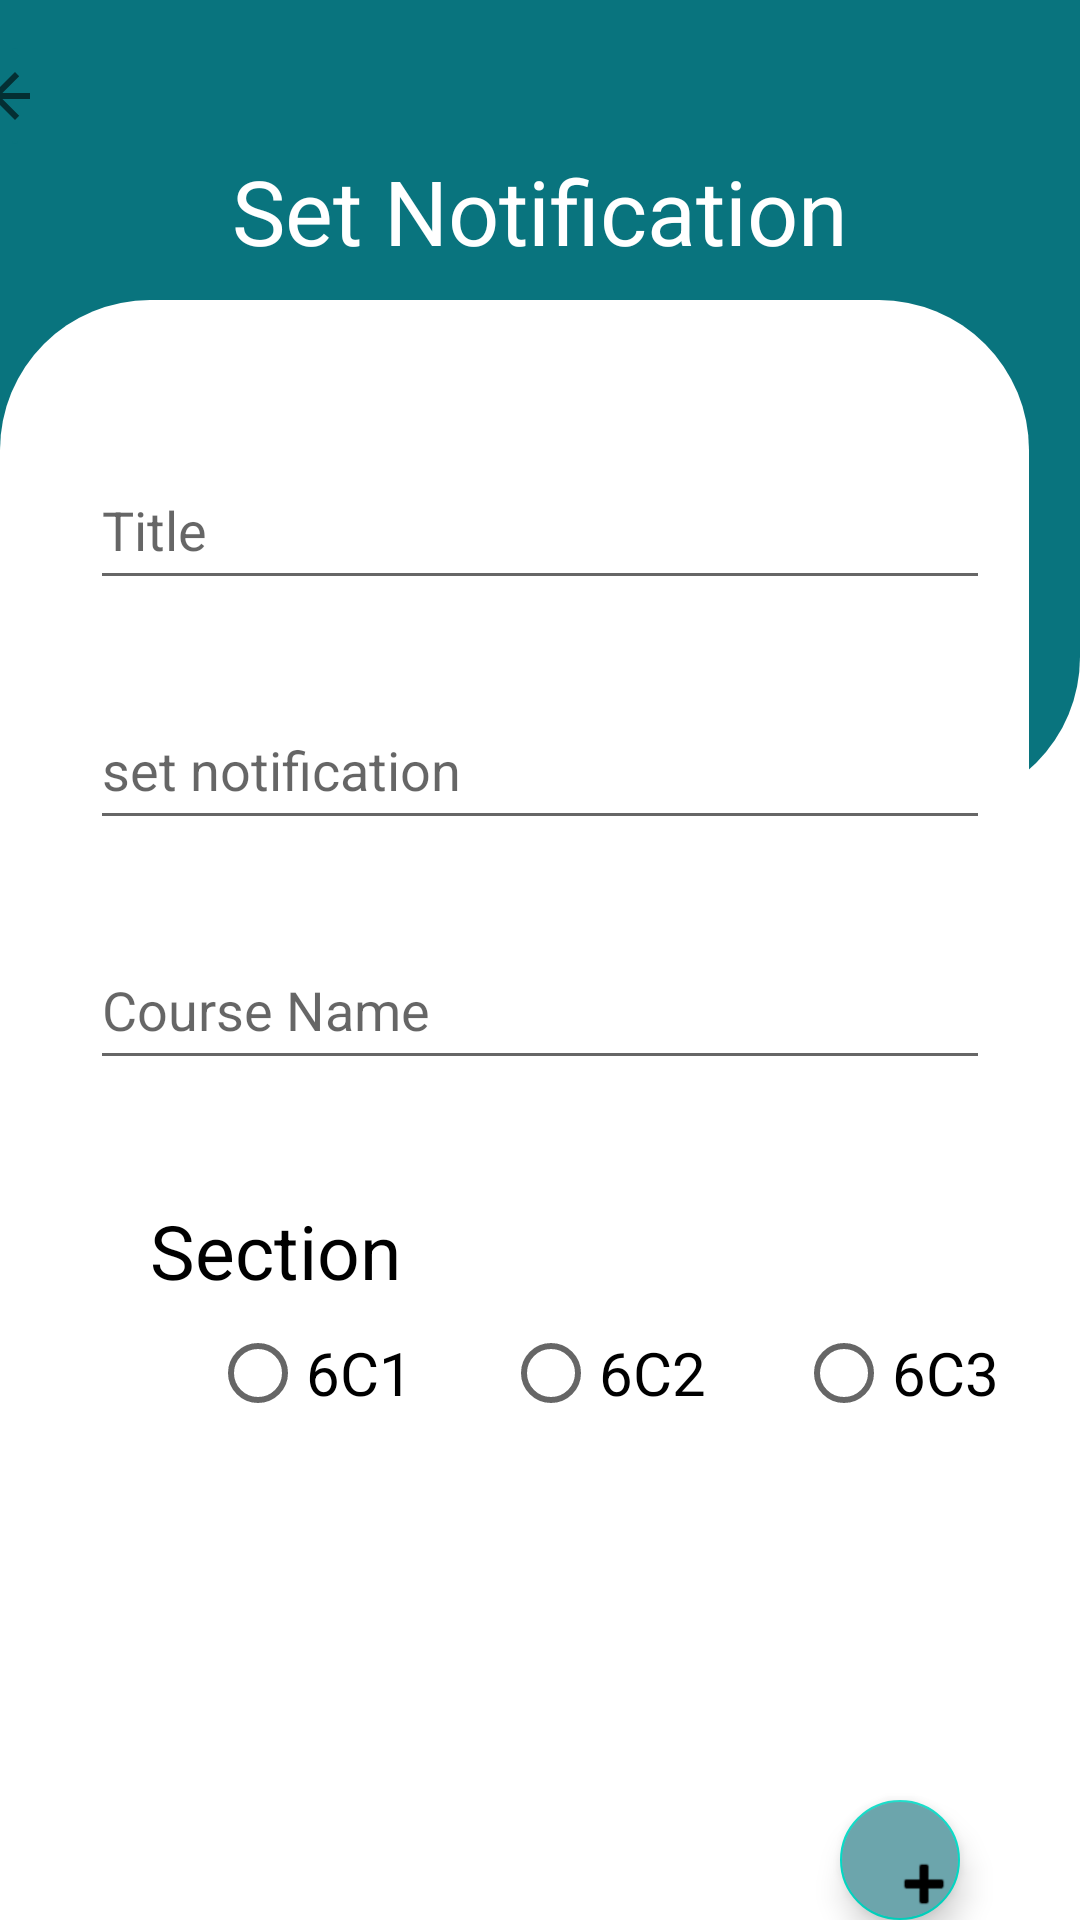

Icon click points for this 1080px×1920px phone screenshot, format [x,y]:
add: [900,1860]
